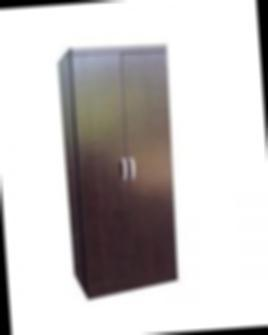Armario: (49, 37, 185, 303)
